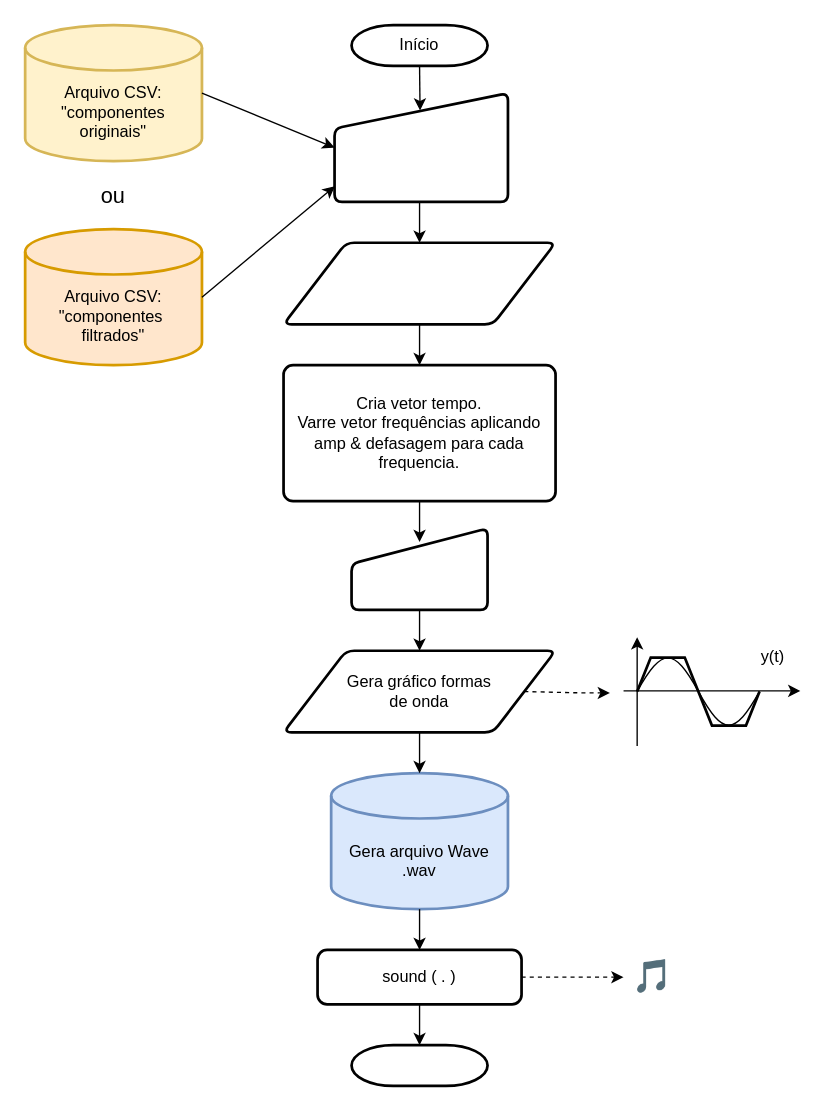
The diagram is 836 pixels wide and 1110 high, and some of its shapes have lost their labels. Here are the shapes that lost their labels. From the top down, the centre of each, then its label:
At point (421, 147): "Arquivo componentes da onda ?".
At point (419, 283): "Período de tempo desejado? Freq. amostragem?".
At point (419, 568): "Arquivo de saída de áudio?".
At point (419, 1065): "Fim".
